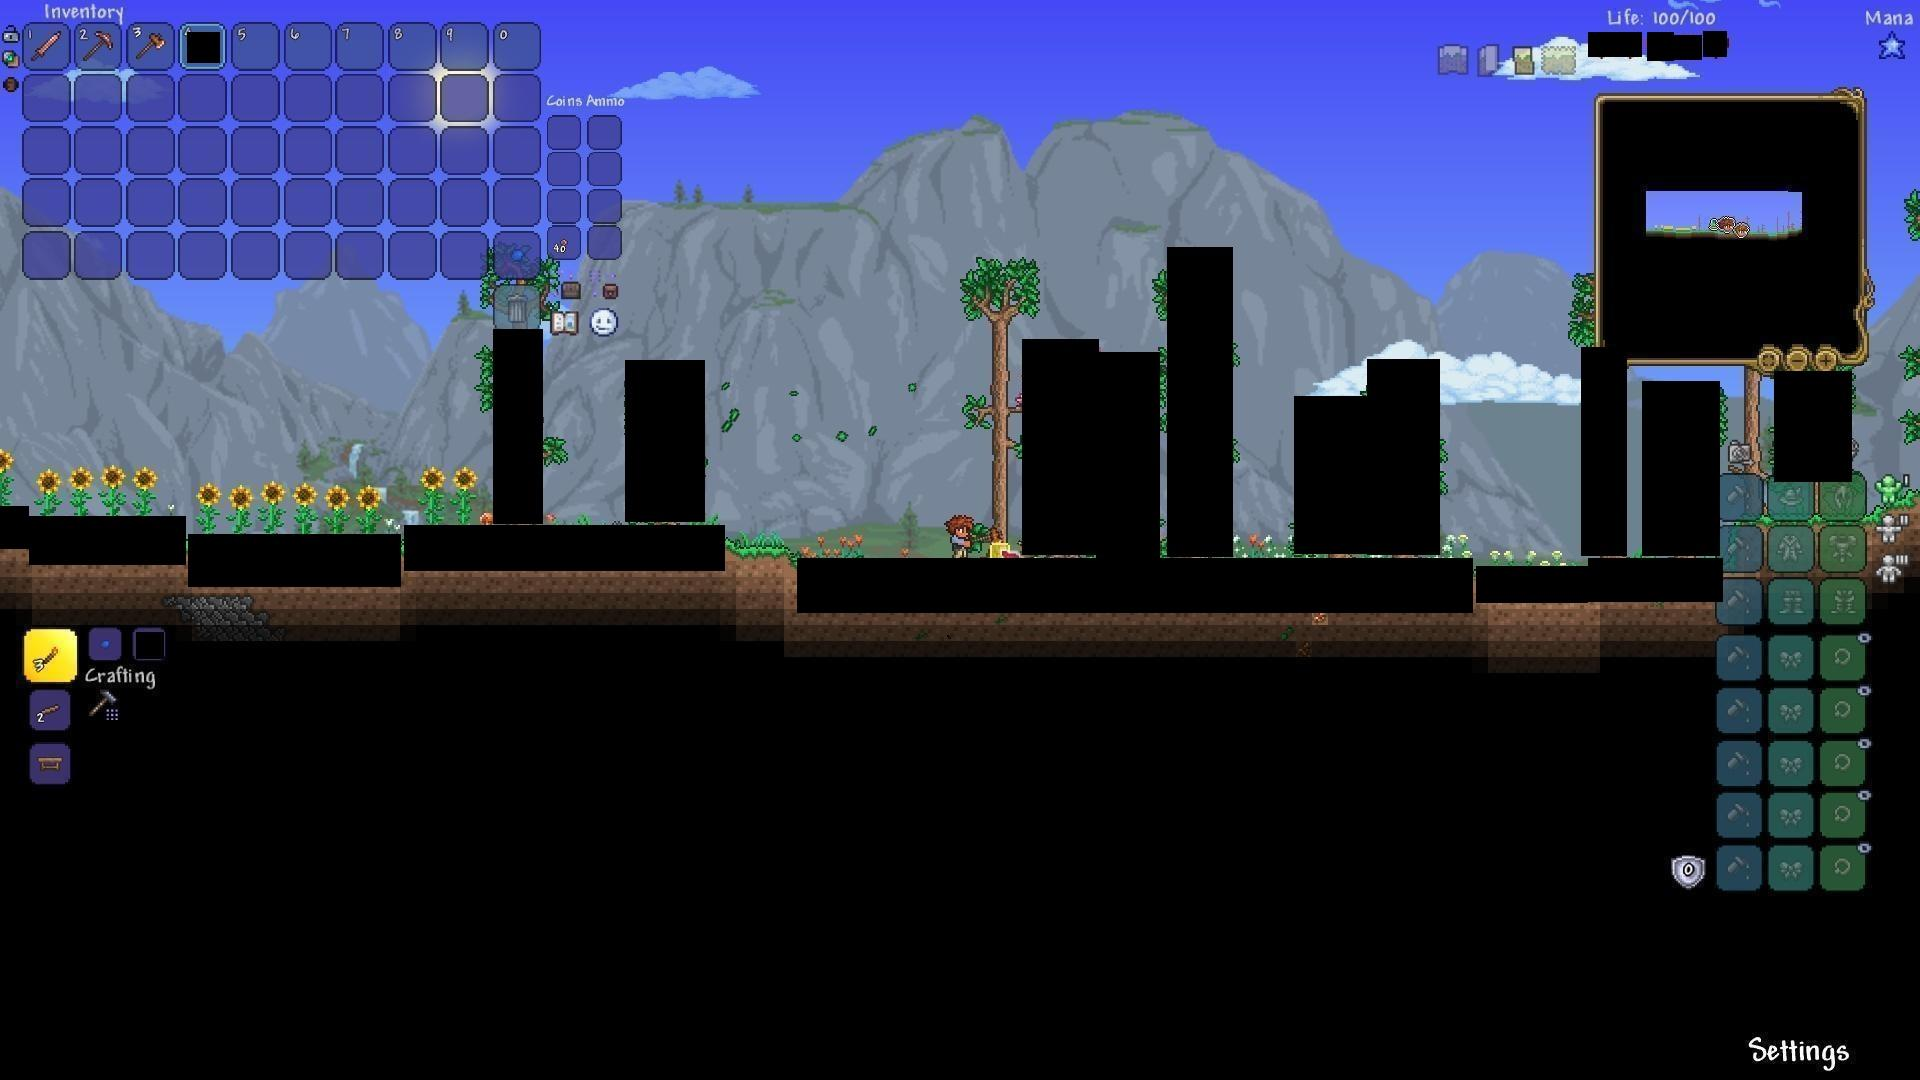dirt: (727, 535, 796, 580)
tree: (961, 245, 1027, 554)
workbench: (36, 752, 67, 775)
